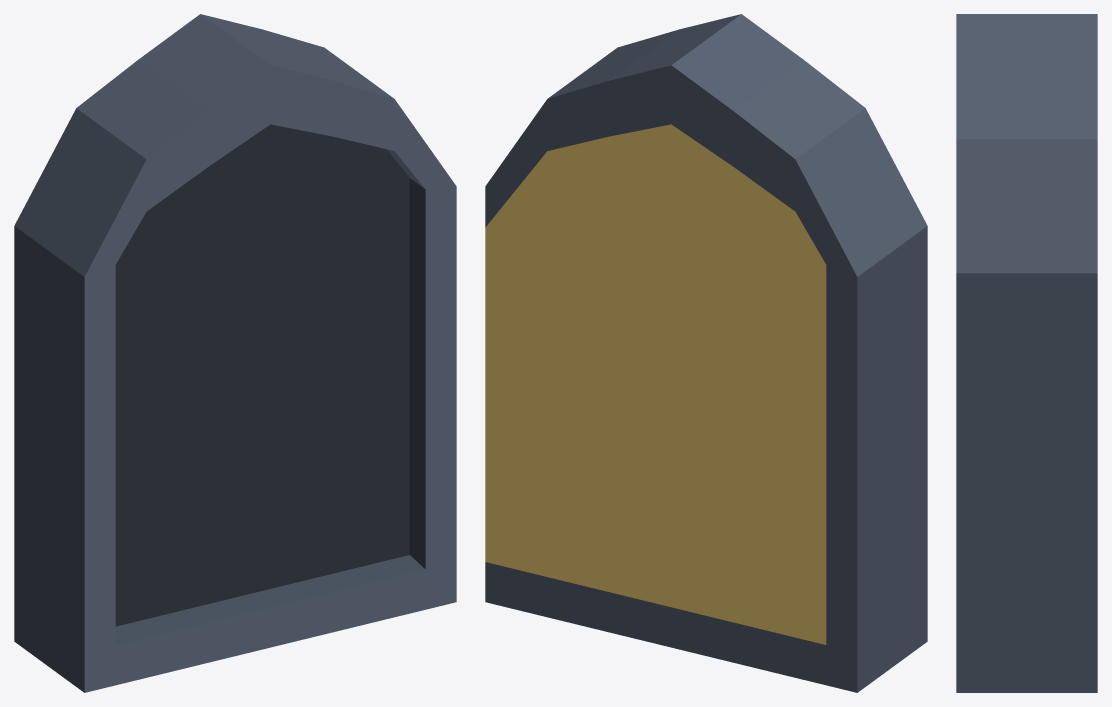
Rendered from Porta.fbx.
3 views of the same model, side by side, from view 1: azimuth 30°, elevation 25°; view 2: azimuth 150°, elevation 25°; view 3: azimuth 270°, elevation 25° (orthographic).
Parts seen in each view (by area): view 1: Portal; view 2: Portal; view 3: Portal.
Boxes of the visible parts, bbox=[...] form: Portal: bbox=[14, 14, 456, 692]; Portal: bbox=[485, 14, 927, 692]; Portal: bbox=[956, 14, 1097, 692].
Size of the model in its own units: 276 by 412 by 90.1.
1 material, 1 textured.
